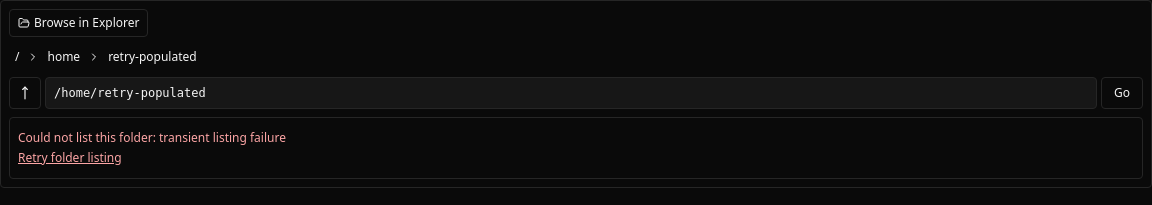
WslFolderPicker › retries a same-path listing failure into a valid populated result
The image size is (1152, 205).
expect the text "Could not list this folder:" is shown: met, box [18, 129, 159, 146]
expect the number of messages is 1: met, box [18, 129, 286, 166]
Click the button "Retry folder listing" at (70, 158), box [18, 150, 122, 166]
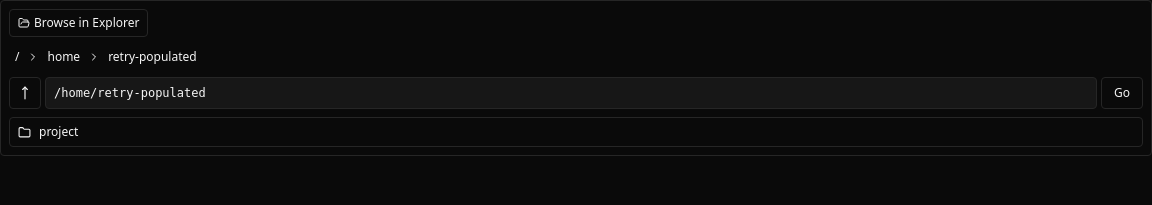
expect the button "project" is shown: met, box [10, 118, 1142, 146]
expect the message "Could not list this folder: transient listing failure Retry folder listing" is gone: met
